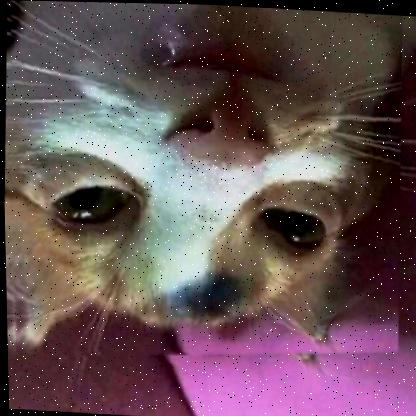cat: (0, 0, 410, 378)
